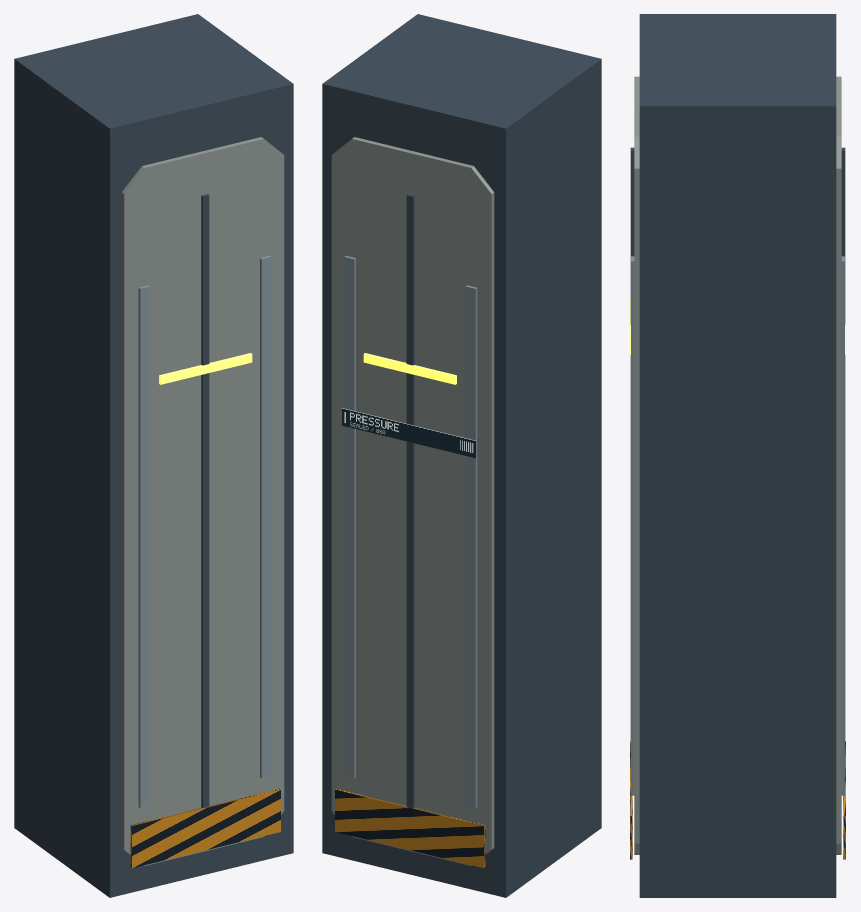
File: blast-door.glb
3 renders of one model, left to right at view 1: azimuth 30°, elevation 25°; view 2: azimuth 150°, elevation 25°; view 3: azimuth 270°, elevation 25°, orthographic. The views are drawn at different scales.
Visible parts, largest first — view 1: DoorLeaf; view 2: DoorLeaf; view 3: DoorLeaf.
Boxes of the visible parts, box(x1,y1,x2,y2) form: DoorLeaf: box(14, 14, 293, 897); DoorLeaf: box(322, 14, 601, 897); DoorLeaf: box(630, 14, 845, 897).
Size of the model in its own units: 1 by 4 by 0.9935.
6 materials, 2 textured.
